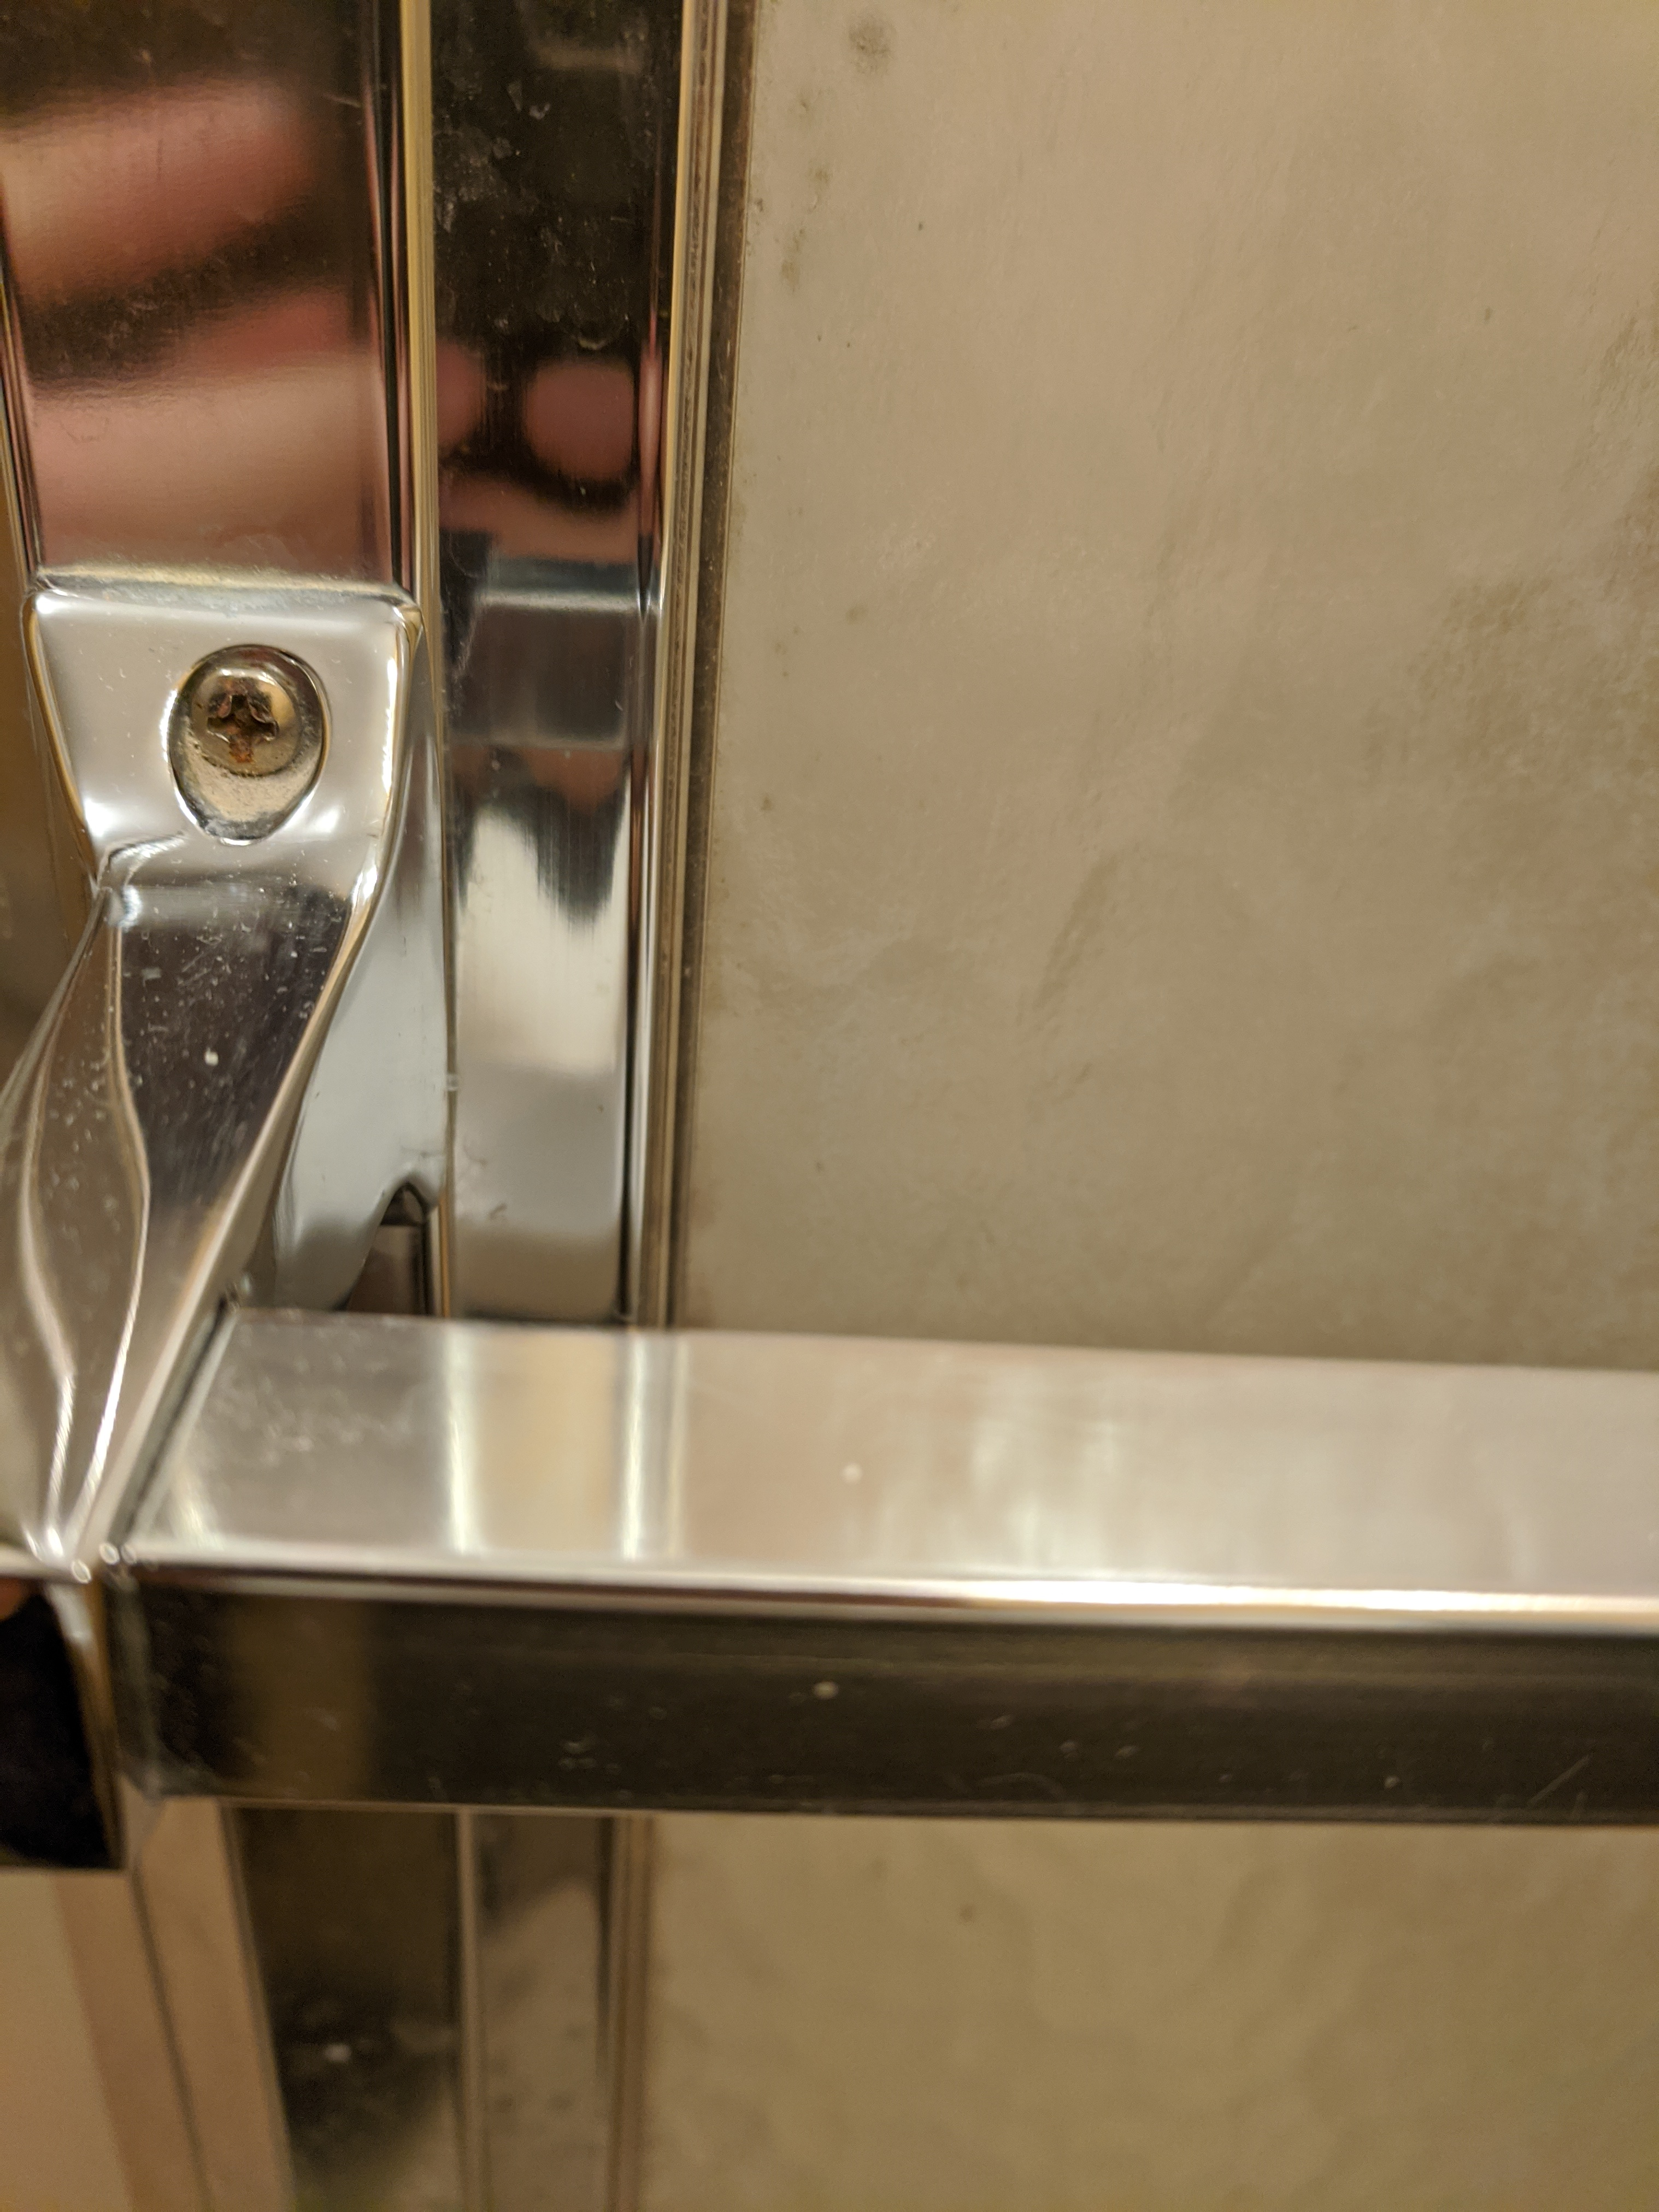cross_recessed_screw: (173, 634, 328, 791)
